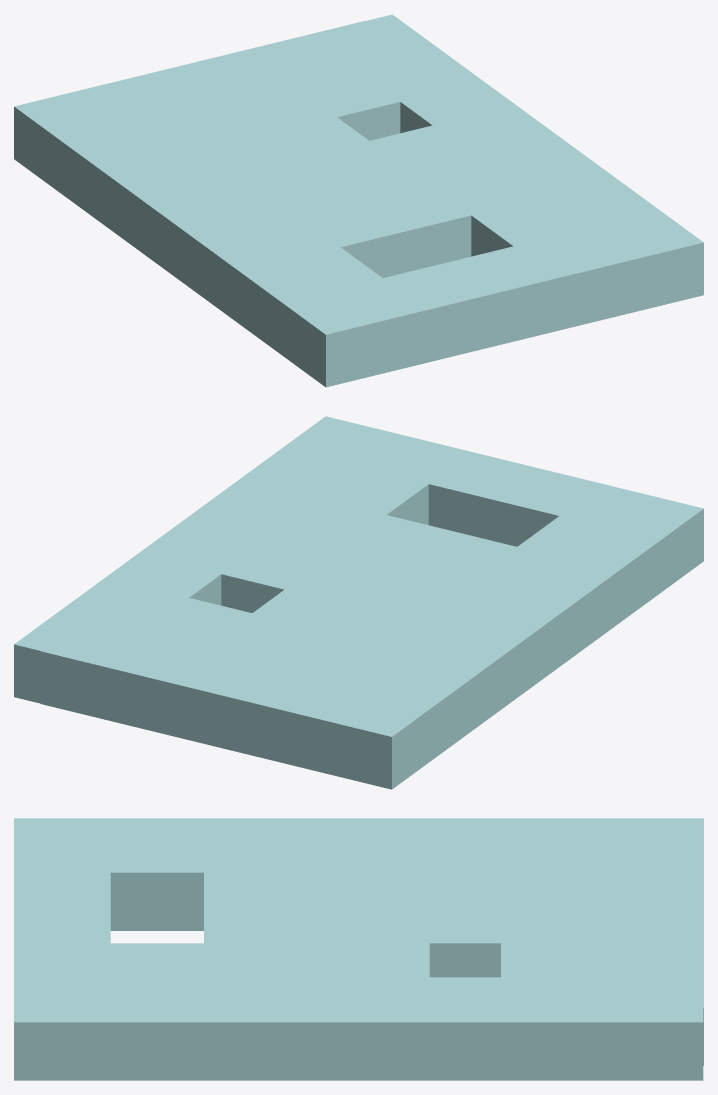
The model's file is floor-big.fbx.
3 renders of one model, top to bottom at view 1: azimuth 30°, elevation 25°; view 2: azimuth 150°, elevation 25°; view 3: azimuth 270°, elevation 25°, orthographic. The views are drawn at different scales.
Visible parts, largest first — view 1: Cube; view 2: Cube; view 3: Cube.
Boxes of the visible parts, left/top/right/bottom form: Cube: left=14, top=14, right=703, bottom=387; Cube: left=14, top=416, right=703, bottom=789; Cube: left=14, top=818, right=703, bottom=1080.
Bounding box in the file's own units: 1501 × 200 × 2145.
